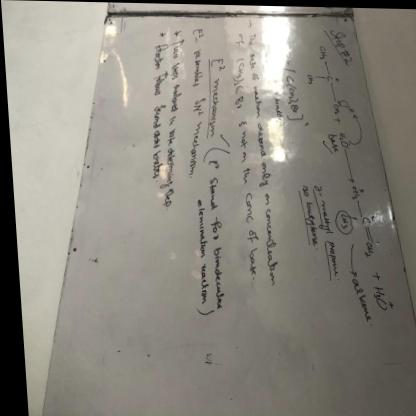Handwritten text: (235, 26, 281, 290), (155, 31, 188, 210), (198, 170, 230, 321), (140, 38, 169, 185), (234, 125, 258, 284), (188, 191, 208, 309)
Whiteboard: (36, 6, 416, 416)
